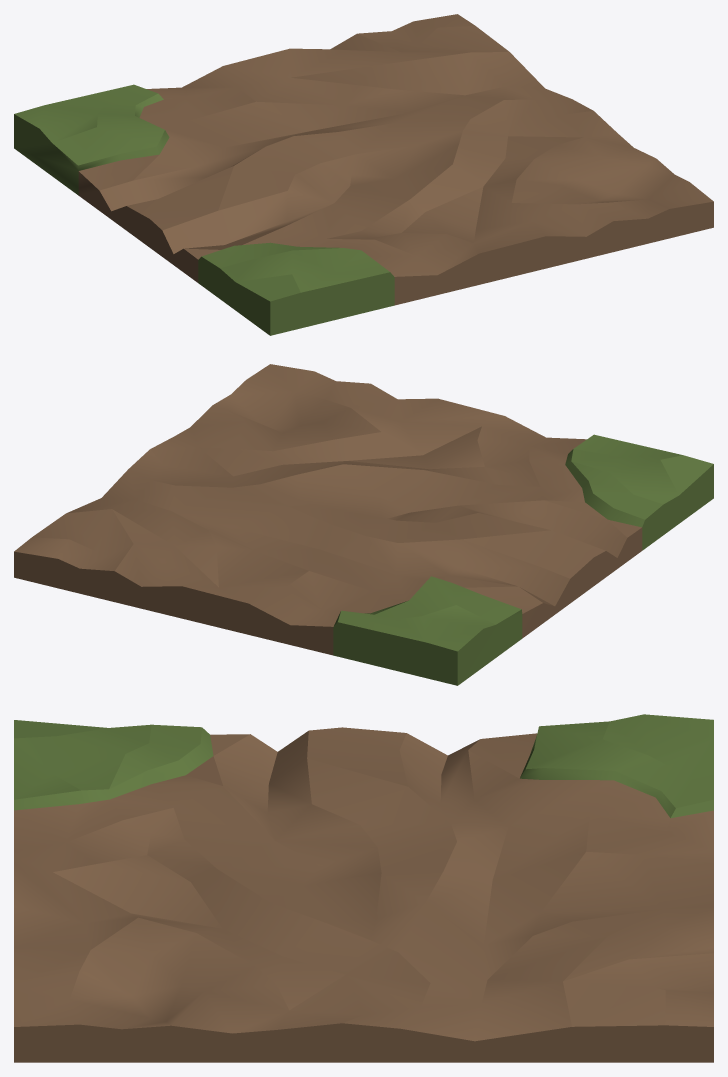
The model's file is Ground_Road_Entrance_L.glb.
The picture shows the model from 3 angles, top to bottom: view 1: azimuth 30°, elevation 25°; view 2: azimuth 150°, elevation 25°; view 3: azimuth 270°, elevation 25°; orthographic projection. The views are drawn at different scales.
Visible parts, largest first — view 1: Ground_Road_Entrance_L; view 2: Ground_Road_Entrance_L; view 3: Ground_Road_Entrance_L.
Part boxes in pixels (x1,y1,x2,y2): Ground_Road_Entrance_L: [14, 14, 713, 335]; Ground_Road_Entrance_L: [14, 364, 713, 685]; Ground_Road_Entrance_L: [14, 714, 713, 1062].
Size of the model in its own units: 1.47 by 0.1341 by 1.47.
